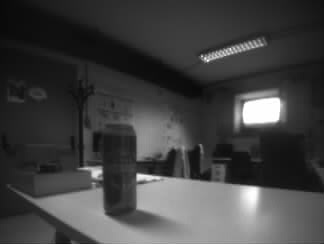Tin can: (103, 122, 138, 214)
